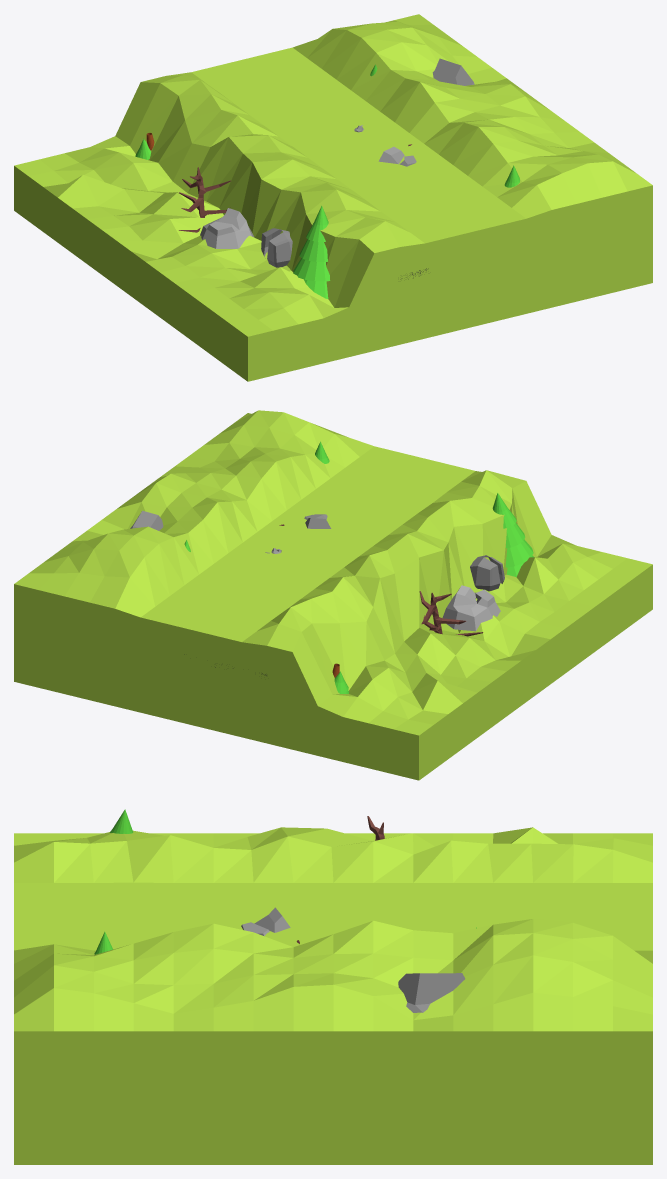
The model's file is roadScene_compressed.glb.
3 renders of one model, top to bottom at view 1: azimuth 30°, elevation 25°; view 2: azimuth 150°, elevation 25°; view 3: azimuth 270°, elevation 25°, orthographic. The views are drawn at different scales.
Visible parts, largest first — view 1: Terrain, Cylinder001_1, Waterfall, Stone001, Dead_Tree001; view 2: Terrain, Cylinder001_1, Stone001, Waterfall, Dead_Tree001; view 3: Terrain, Waterfall, Rock2004, Cylinder001_1.
Part boxes in pixels (bbox=[...]): Terrain: bbox=[14, 14, 652, 381]; Cylinder001_1: bbox=[135, 64, 519, 298]; Waterfall: bbox=[261, 58, 474, 267]; Stone001: bbox=[200, 208, 254, 248]; Dead_Tree001: bbox=[179, 144, 411, 232]; Terrain: bbox=[14, 410, 652, 780]; Cylinder001_1: bbox=[184, 441, 533, 693]; Stone001: bbox=[442, 585, 500, 631]; Waterfall: bbox=[130, 510, 504, 591]; Dead_Tree001: bbox=[279, 524, 483, 636]; Terrain: bbox=[14, 827, 652, 1164]; Waterfall: bbox=[398, 973, 465, 1012]; Rock2004: bbox=[241, 907, 290, 935]; Cylinder001_1: bbox=[94, 809, 476, 954].
Bounding box in the file's own units: 260238 × 81438 × 260238.
